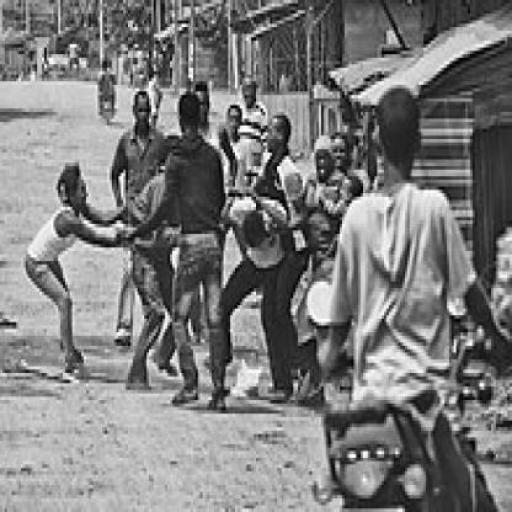Fighting: (24, 88, 334, 407)
